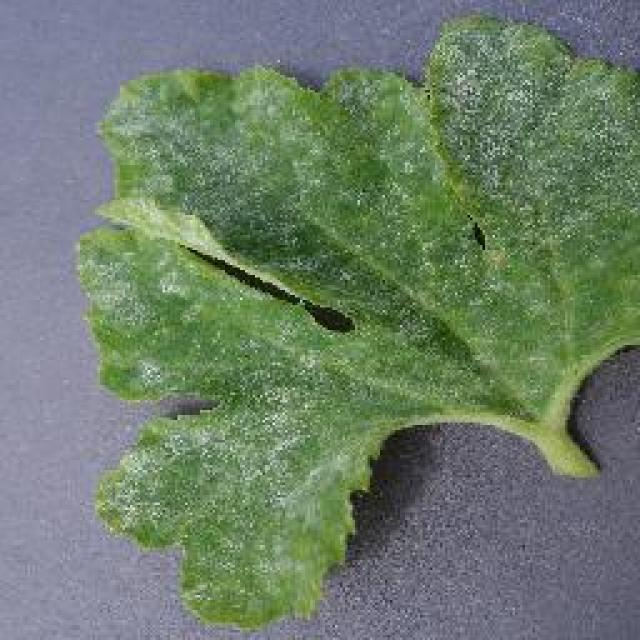Squ_Powdery_mildew: (122, 91, 503, 481)
